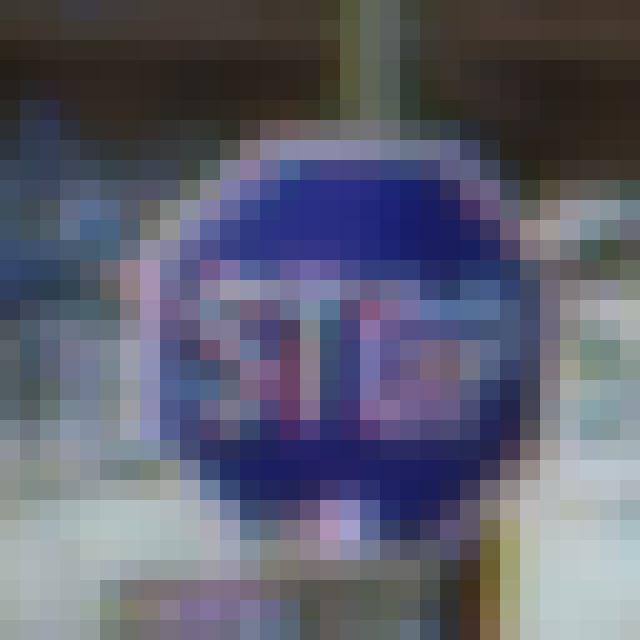STOP: (135, 133, 544, 544)
